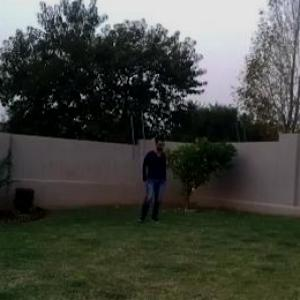follow: (139, 133, 169, 226)
